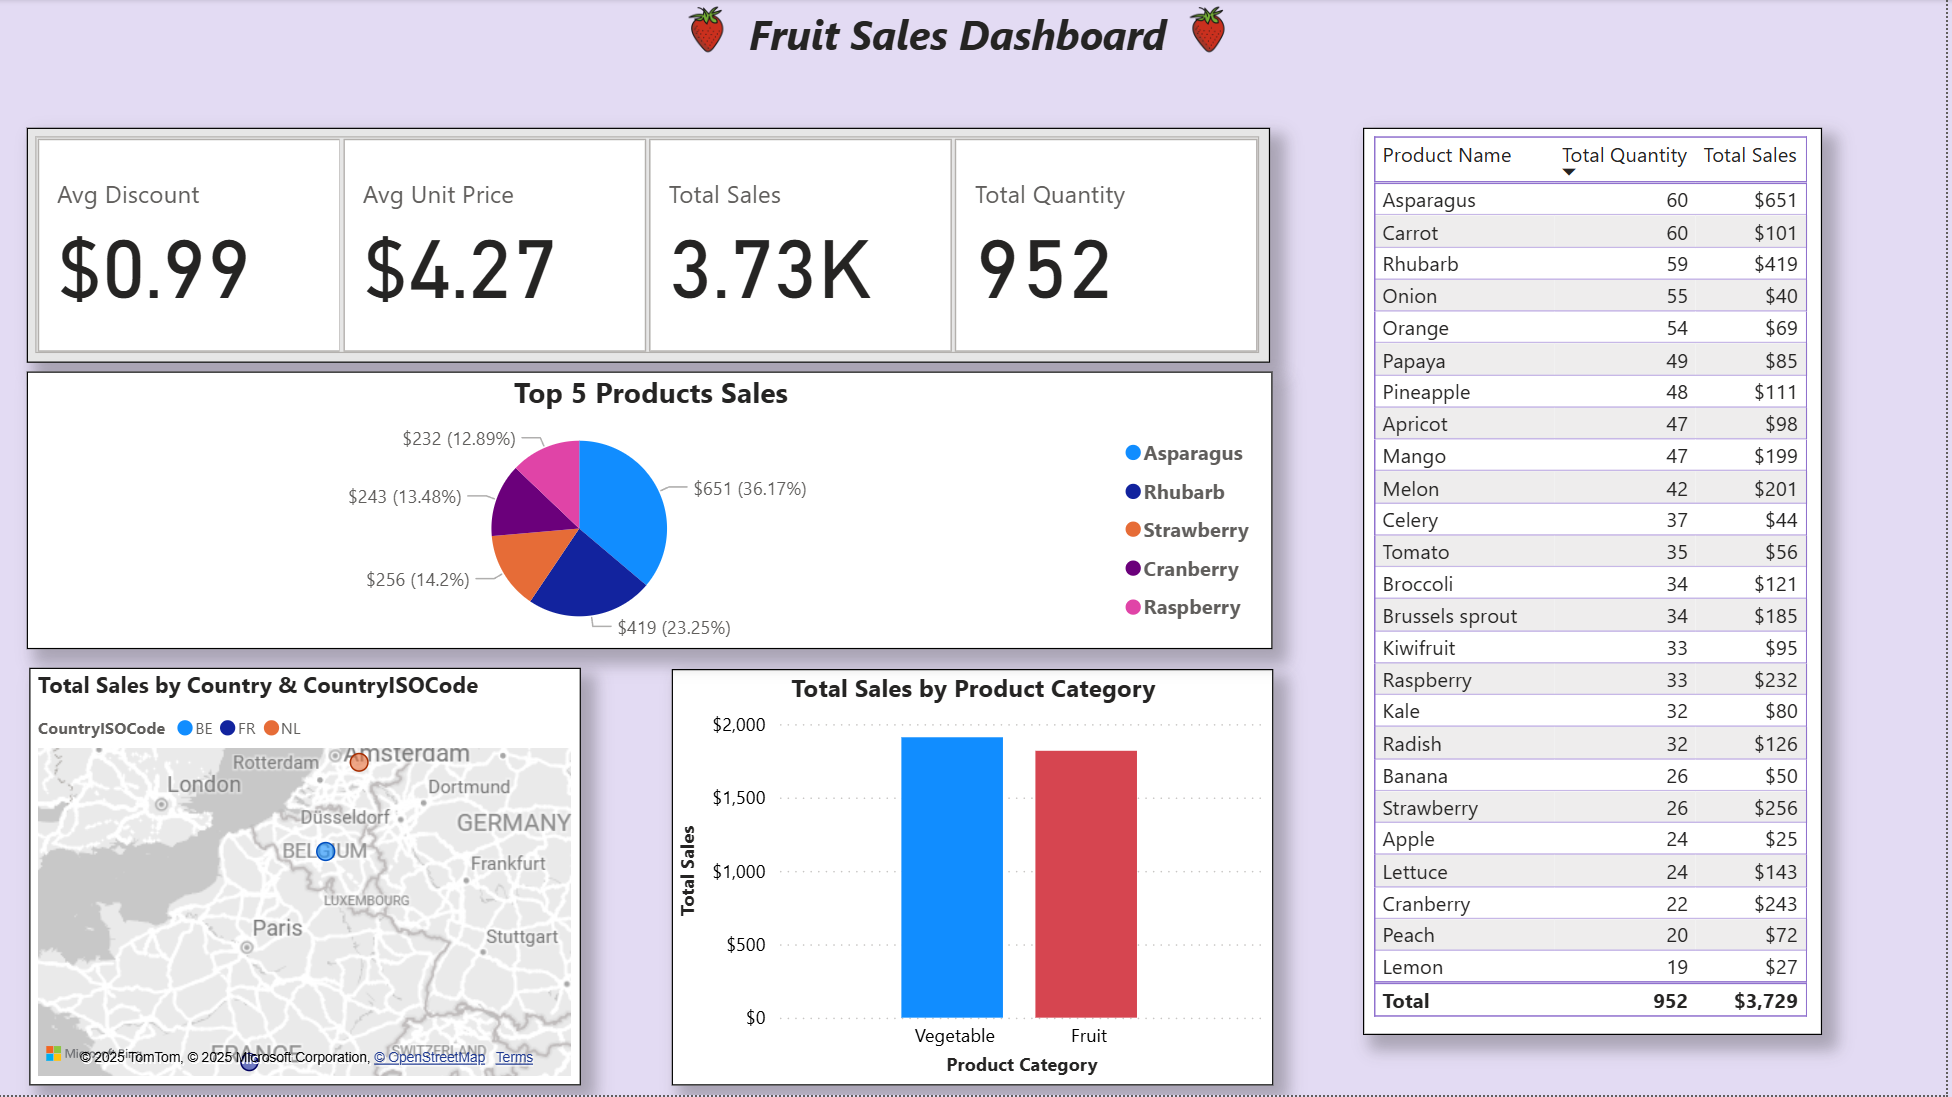

The page's visual inventory and layout, read from the dashboard file:
{"tool":"powerbi","page":{"name":"Page 1","canvas":[1280,720],"ordinal":0},"visuals":[{"type":"cardVisual","fields":{"Data":["Sales.Avg Discount","Sales.Avg Unit Price","Sales.Total Sales","Sales.Total Quantity"]},"box":[20.5,75.5,817.1,154.4],"z":0},{"type":"columnChart","title":"Total Sales by Product Category","fields":{"Category":["Product.ProductCategory"],"Y":["Sales.Total Sales"]},"box":[442.6,440.1,395,273.4],"z":1000},{"type":"pieChart","title":"Top 5 Products Sales","fields":{"Category":["Product.ProductName"],"Y":["Sales.Total Sales"]},"box":[18.9,244.7,818.7,182.3],"z":2000},{"type":"map","title":"Total Sales by Country & CountryISOCode","fields":{"Category":["Customer.Country"],"Size":["Sales.Total Sales"],"Series":["Customer.CountryISOCode"]},"box":[20.5,439.3,362.1,274.3],"z":3000},{"type":"textbox","box":[19.7,0,1221.4,49.9],"z":5000},{"type":"image","box":[443.1,0,42.9,40.6],"z":6000},{"type":"image","box":[772.5,0,42.9,40.6],"z":7000},{"type":"tableEx","fields":{"Values":["Product. Product Name","Sales.Total Quantity","Sales.Total Sales"]},"box":[896.7,84.6,301.4,596.2],"z":7001}]}

Visuals, with their boxes in screenshot pixels (x1, y1, x2, y2), scaled from the page's 1280x720 canvas onto the 1952x1097 screenshot:
cardVisual - Sales.Avg Discount x Sales.Avg Unit Price: {"left": 31, "top": 115, "right": 1277, "bottom": 350}
"Total Sales by Product Category" columnChart: {"left": 675, "top": 671, "right": 1277, "bottom": 1087}
"Top 5 Products Sales" pieChart: {"left": 29, "top": 373, "right": 1277, "bottom": 651}
"Total Sales by Country & CountryISOCode" map: {"left": 31, "top": 669, "right": 583, "bottom": 1087}
textbox: {"left": 30, "top": 0, "right": 1893, "bottom": 76}
image: {"left": 676, "top": 0, "right": 741, "bottom": 62}
image: {"left": 1178, "top": 0, "right": 1243, "bottom": 62}
tableEx - Product. Product Name x Sales.Total Quantity: {"left": 1367, "top": 129, "right": 1827, "bottom": 1037}
